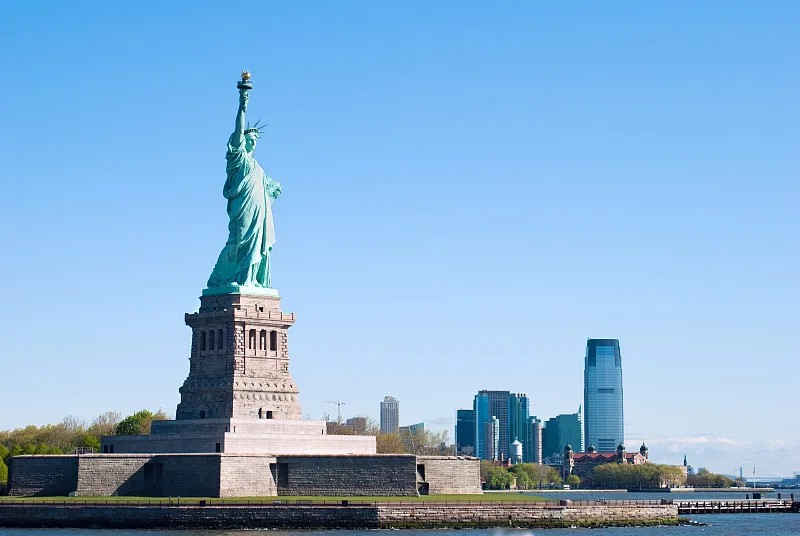SL: (174, 70, 303, 421)
